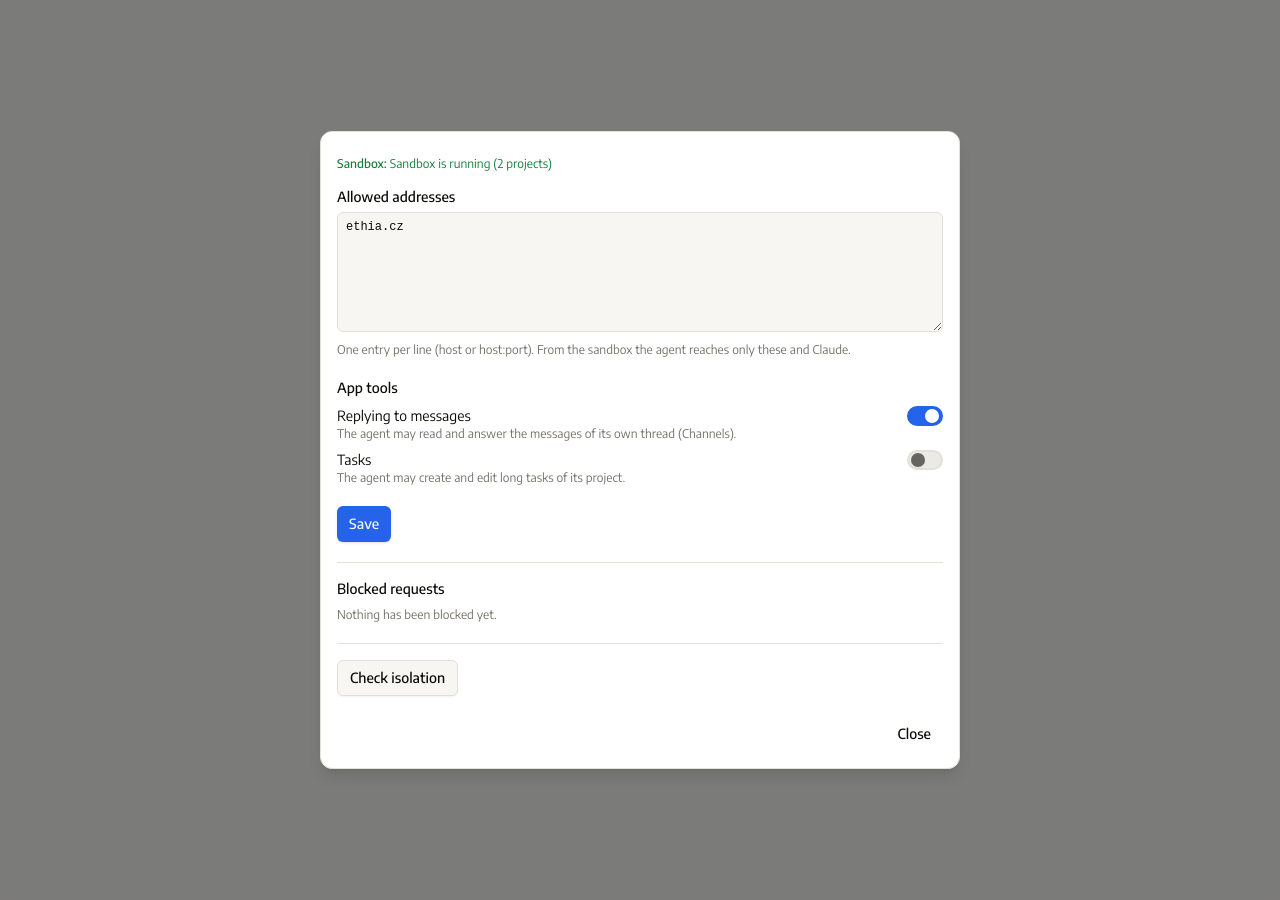
Test: settings dialog saves tools and runs the isolation check
Expected: the text box labelled "Allowed addresses" is shown, [337,212,943,332]
Click the switch named "Tasks": [925, 460] box [907,450,943,470]
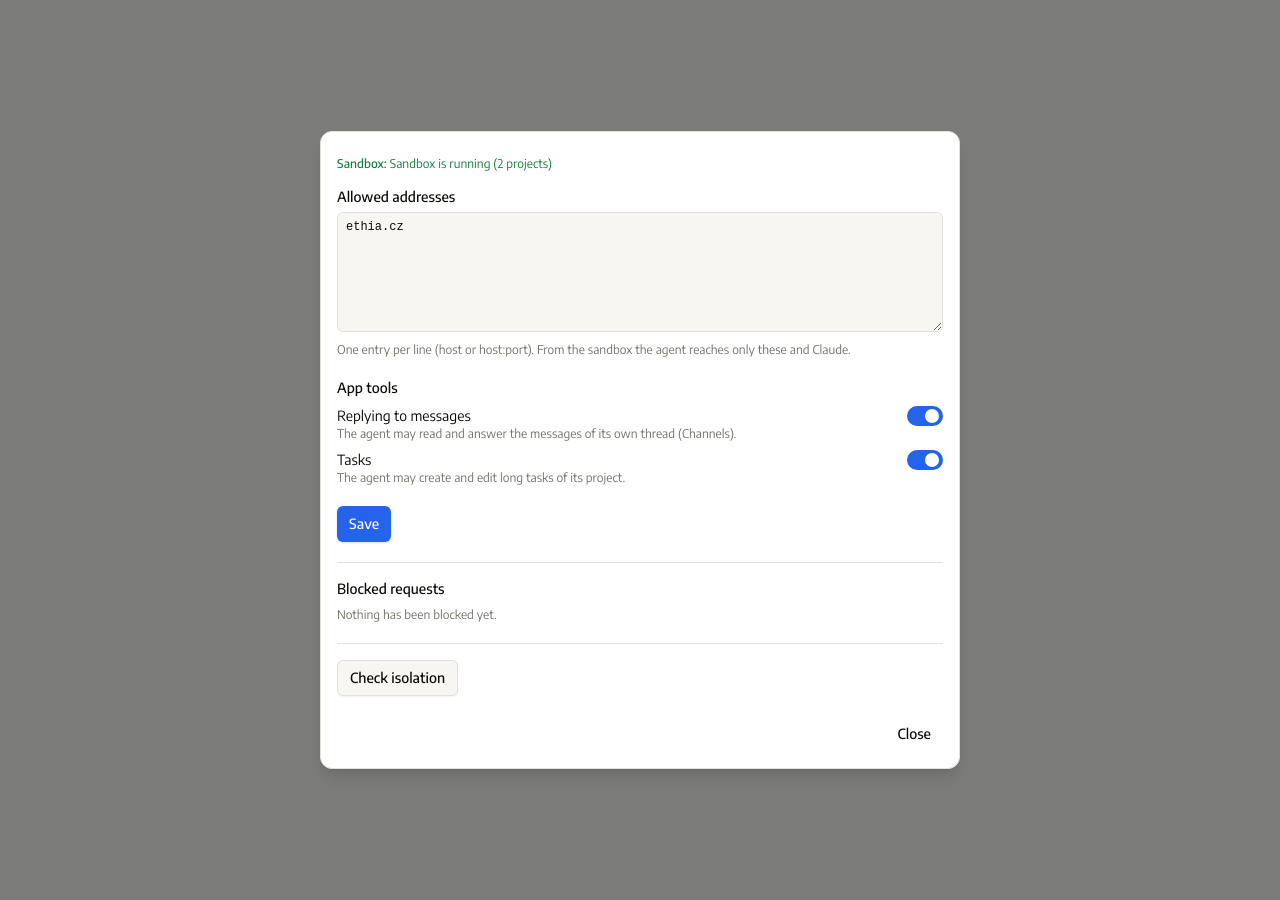
Click the button "Save": [364, 524] box [337,506,391,542]
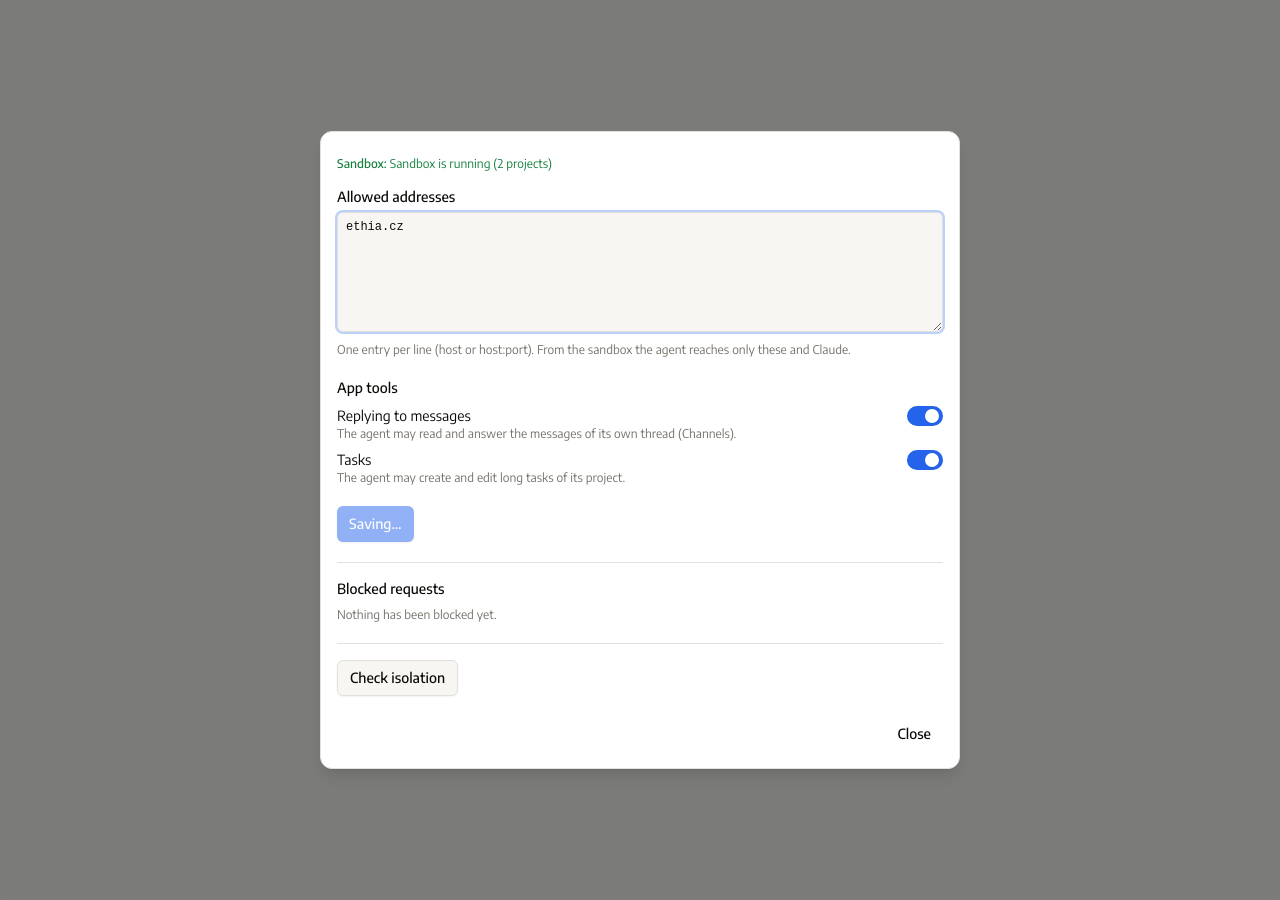
Click the button "Check isolation": [398, 678] box [337,660,458,696]
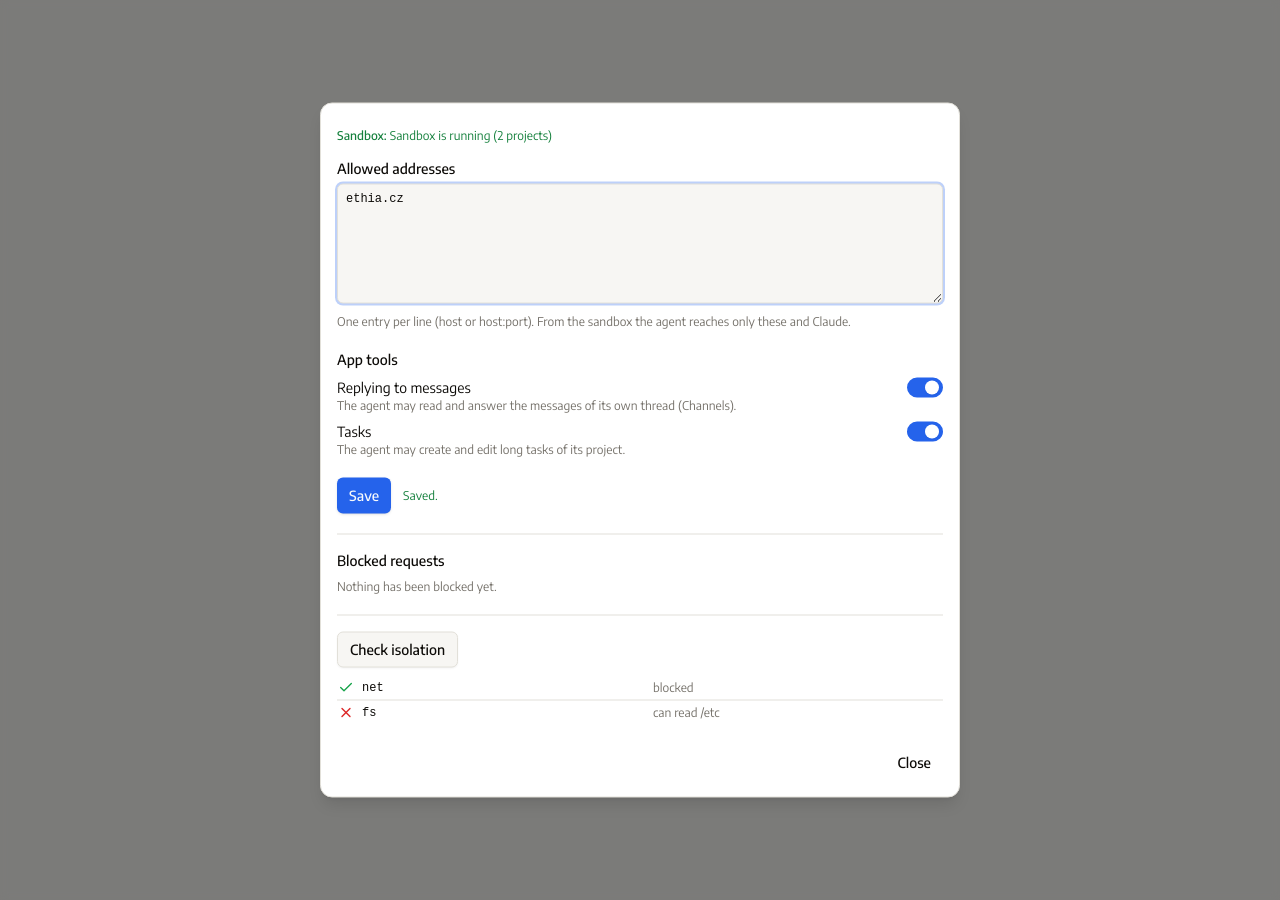
Expected: the text "can read /etc" is shown, [652,700,943,724]
